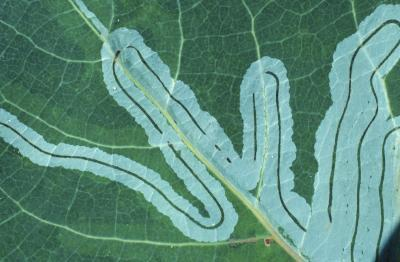Leaf_Miner: (4, 1, 400, 262)
